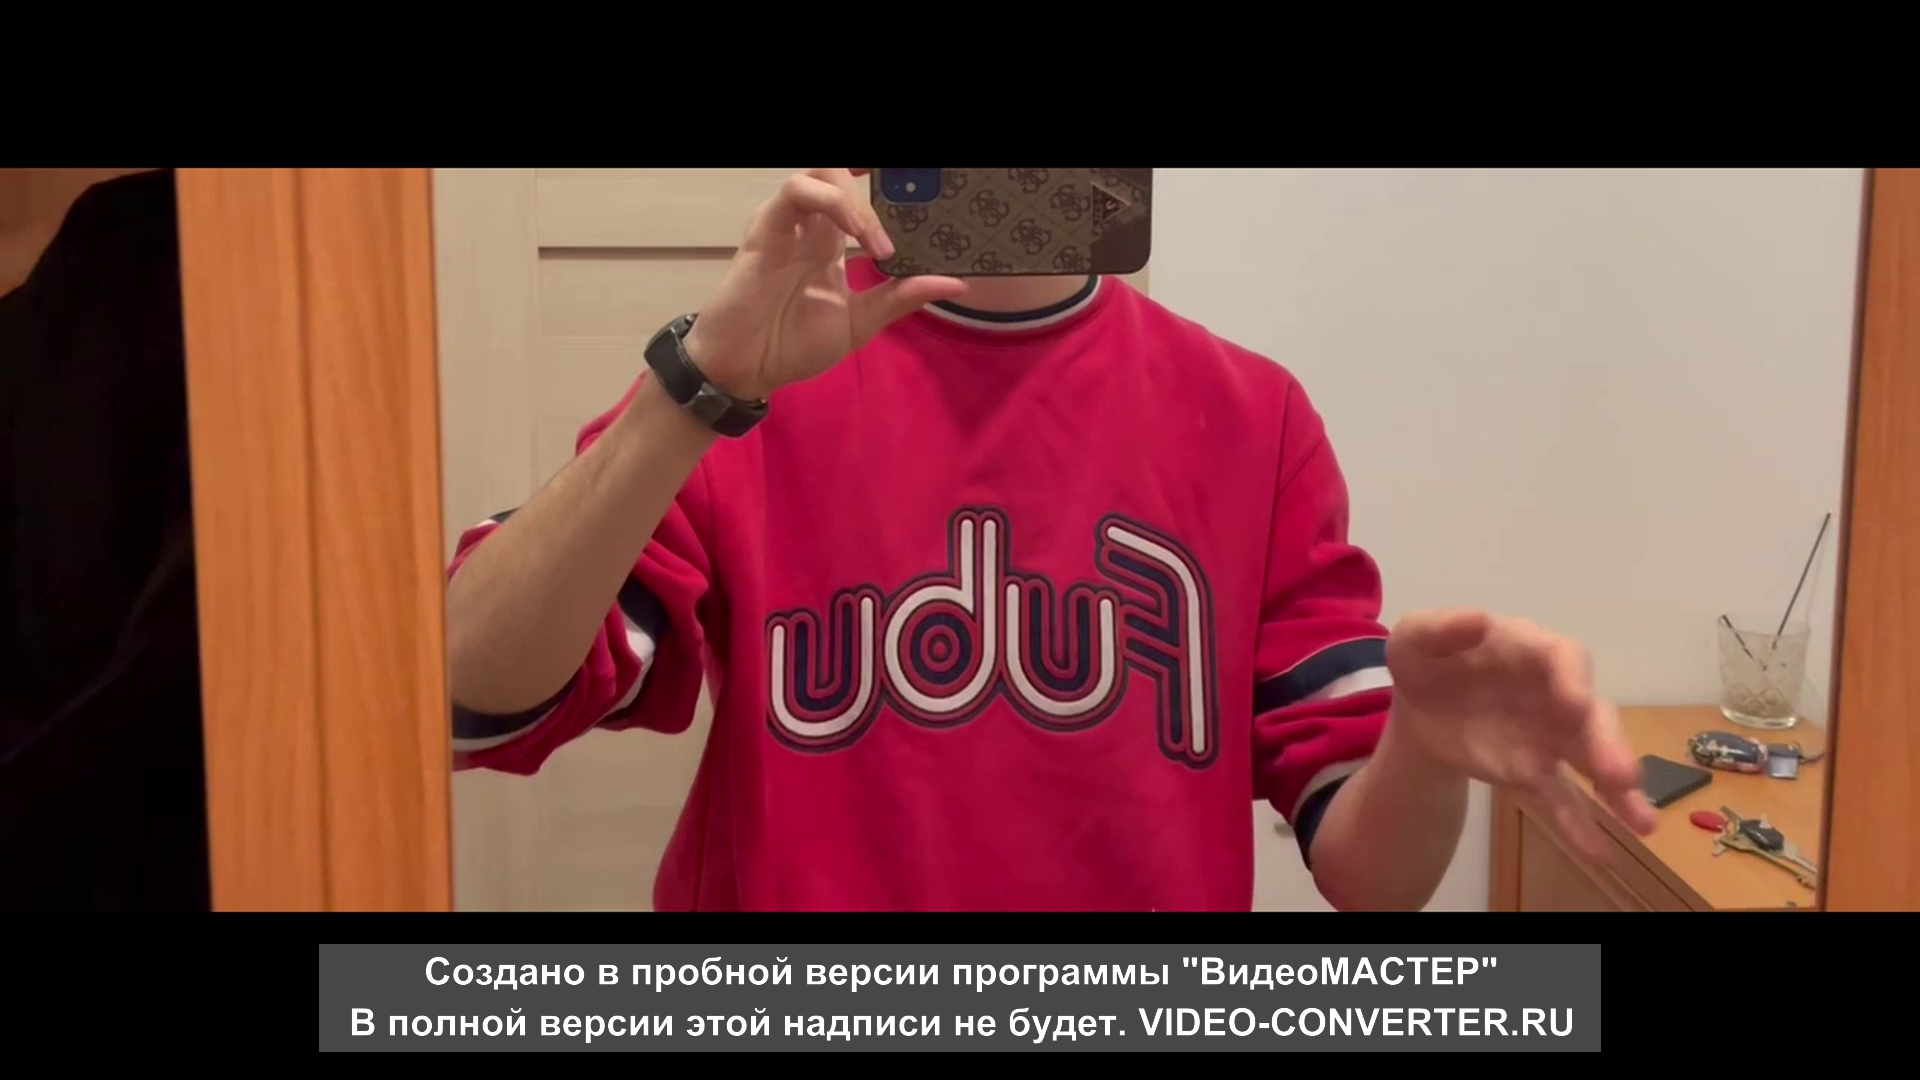Ладонь: (1382, 611, 1658, 869)
